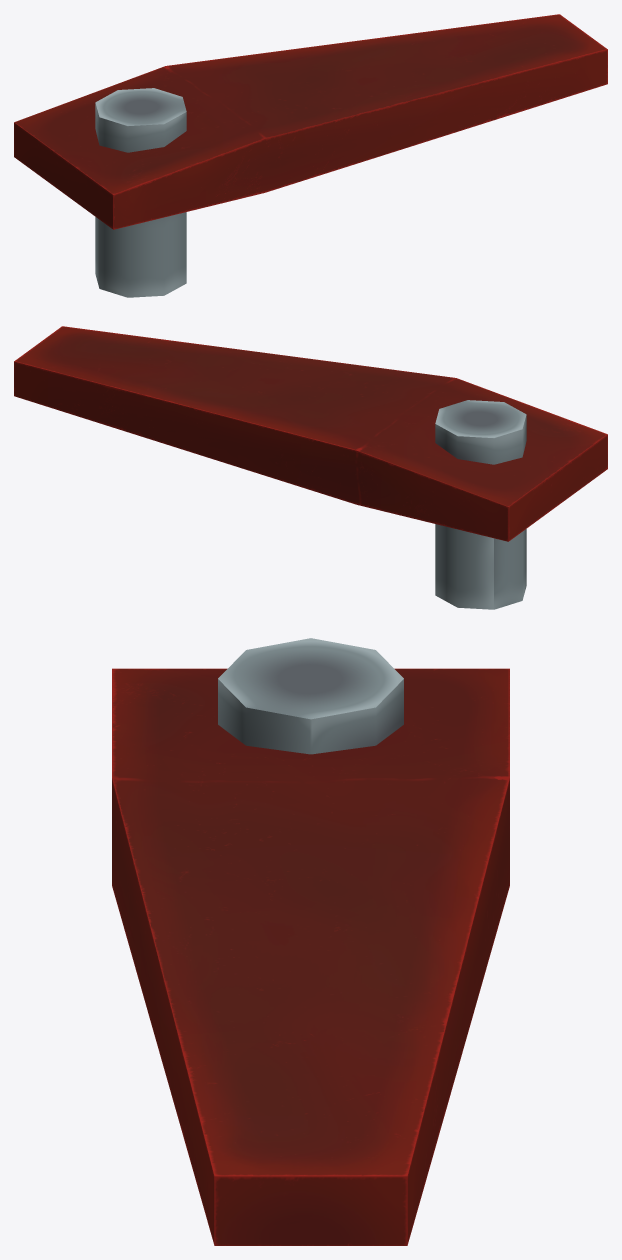
Rendered from bathroom_valve_V02.glb.
3 renders of one model, top to bottom at view 1: azimuth 30°, elevation 25°; view 2: azimuth 150°, elevation 25°; view 3: azimuth 270°, elevation 25°, orthographic. The views are drawn at different scales.
Parts seen in each view (by area): view 1: Cube.001; view 2: Cube.001; view 3: Cube.001.
Boxes of the visible parts, bbox=[...] form: Cube.001: bbox=[14, 14, 607, 297]; Cube.001: bbox=[14, 326, 607, 609]; Cube.001: bbox=[112, 638, 509, 1245].
Size of the model in its own units: 0.1855 by 0.0585 by 0.0614.
Materials: 1 (1 with a texture image).
